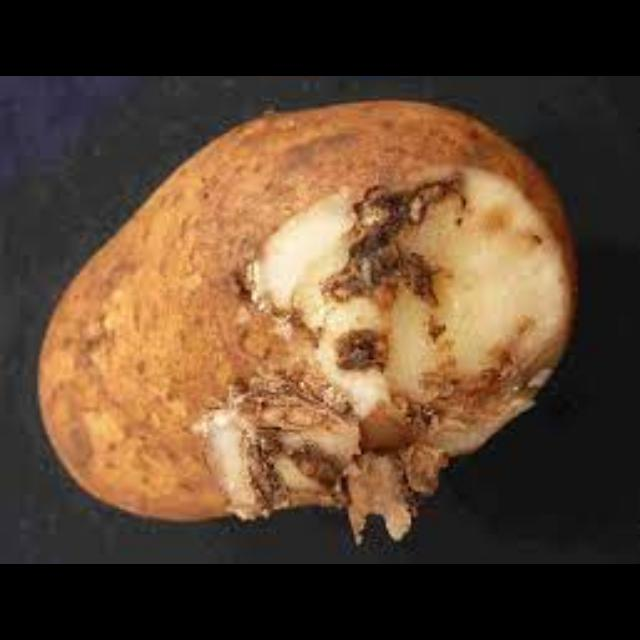Diseased-fungal potato: (33, 100, 579, 534)
